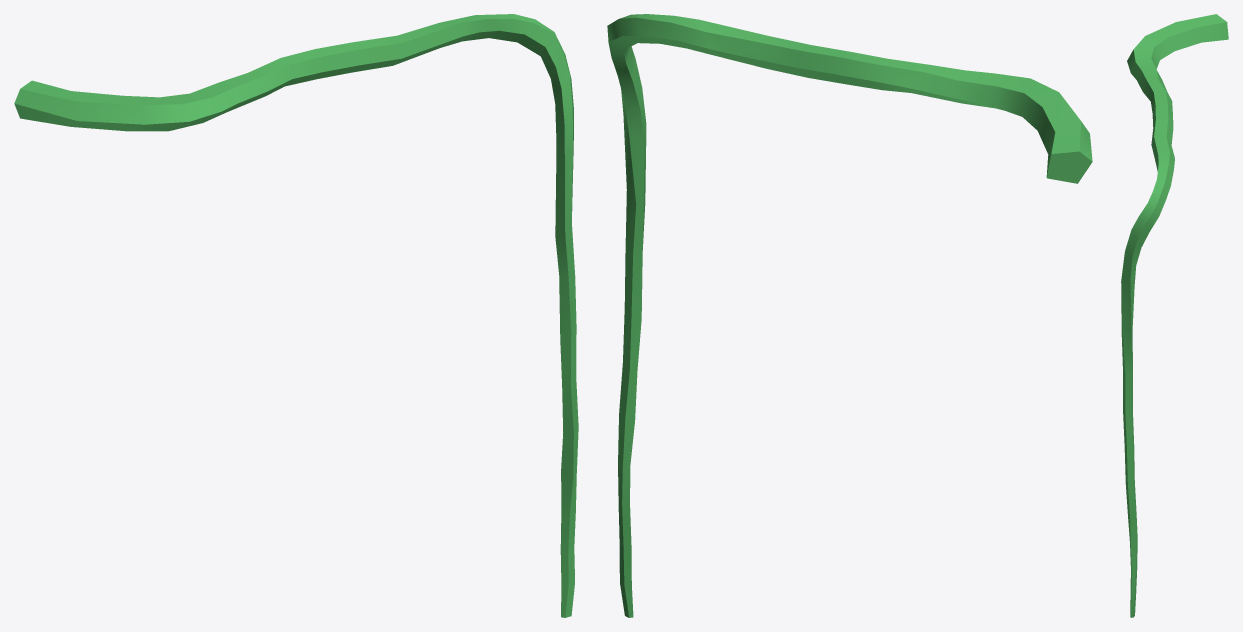
File: roots_solo_A_A.fbx
The picture shows the model from 3 angles, left to right: view 1: azimuth 30°, elevation 25°; view 2: azimuth 150°, elevation 25°; view 3: azimuth 270°, elevation 25°; orthographic projection. The views are drawn at different scales.
Parts seen in each view (by area): view 1: roots_solo_A_A; view 2: roots_solo_A_A; view 3: roots_solo_A_A.
Boxes of the visible parts, left/top/right/bottom form: roots_solo_A_A: left=14, top=14, right=578, bottom=617; roots_solo_A_A: left=607, top=14, right=1092, bottom=617; roots_solo_A_A: left=1121, top=14, right=1228, bottom=617.
Size of the model in its own units: 232 by 266 by 59.81.
